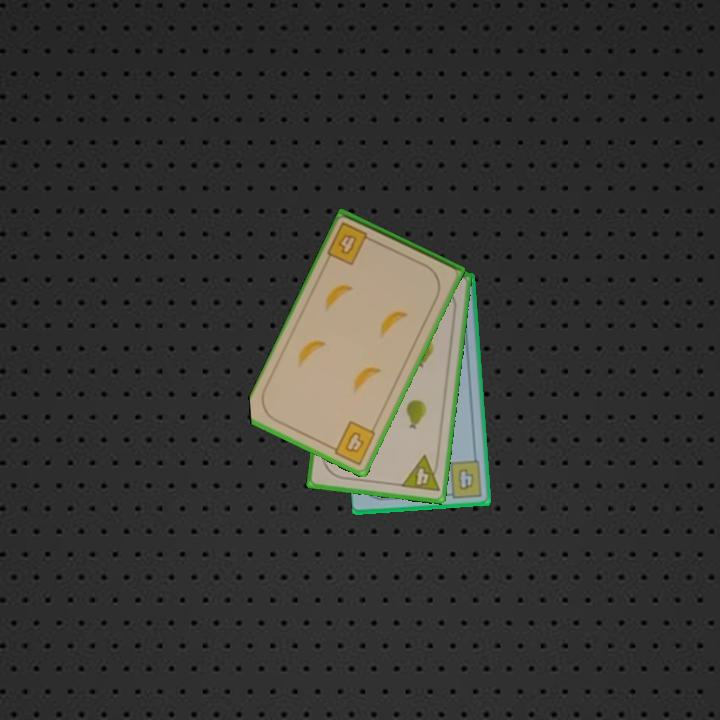4b: (325, 417, 379, 468), (324, 218, 378, 268), (442, 457, 485, 501)
4p: (397, 452, 442, 495)
